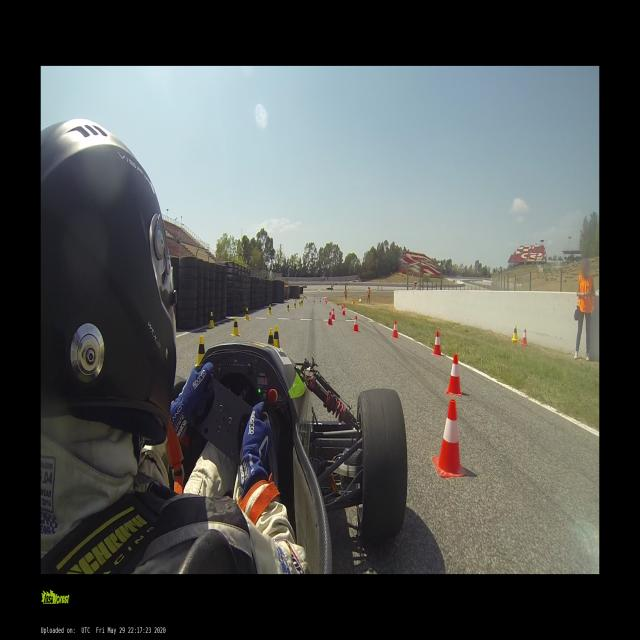orange_cone: (432, 398, 466, 478), (445, 354, 463, 398), (432, 331, 442, 357), (391, 320, 399, 339), (353, 316, 360, 332), (327, 311, 334, 326), (522, 329, 528, 345), (331, 308, 335, 320), (342, 305, 346, 316), (337, 300, 339, 306), (342, 303, 343, 308), (320, 298, 321, 302), (326, 299, 326, 304), (327, 298, 327, 302), (314, 298, 314, 302)
yellow_cone: (231, 316, 241, 336), (198, 336, 205, 364), (274, 325, 280, 347), (207, 312, 215, 328), (268, 327, 274, 345), (512, 325, 518, 340), (244, 308, 250, 320), (268, 304, 272, 314), (286, 303, 290, 312), (294, 301, 296, 309), (295, 297, 297, 304), (299, 301, 301, 307), (292, 296, 294, 300), (301, 300, 302, 305), (302, 299, 303, 304), (287, 296, 288, 300)
